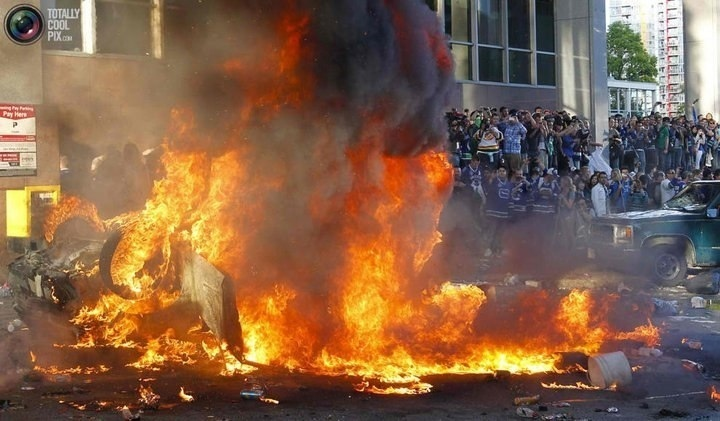fire: (41, 13, 460, 398)
